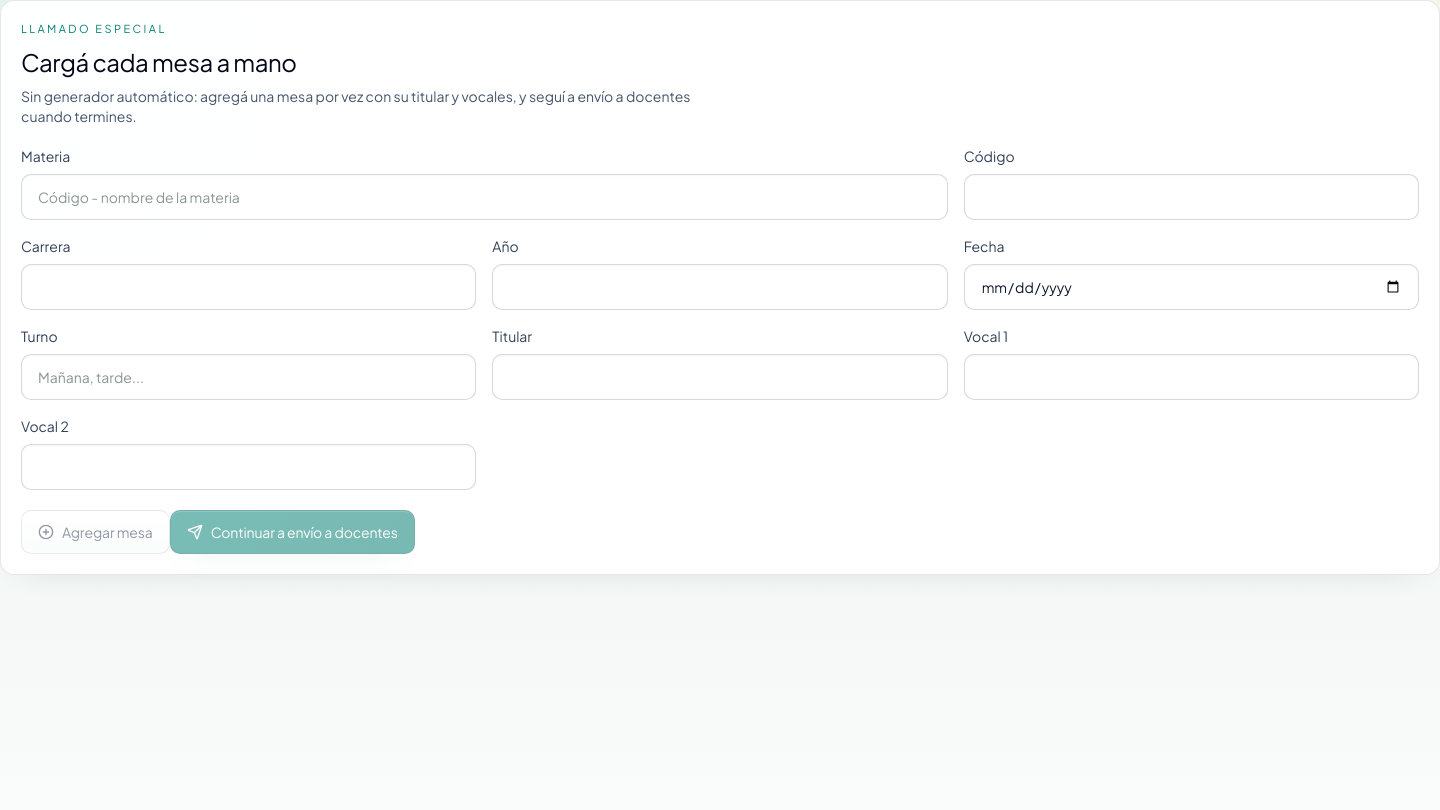
Test: ManualMesaBuilderForm › seleccionar una materia del catalogo prellena el titular asignado
In the field labelled "Materia": coordinates (484, 196) [21,174,948,220], type "ESP01 - Coloquio Final (Profesorado de Historia, 4° año)"
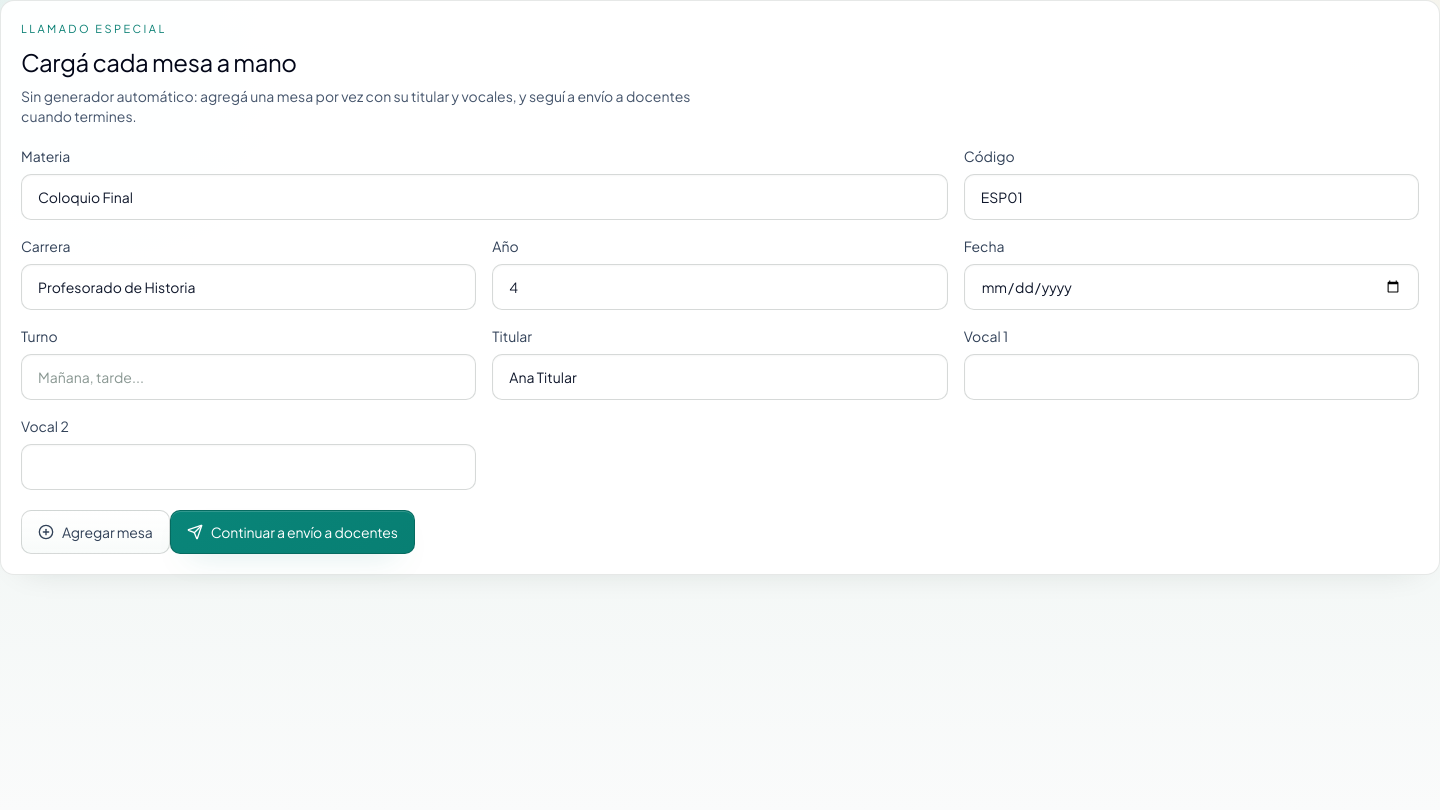
Now the field labelled "Titular" holds "Ana Titular", box [492,354,948,400]
